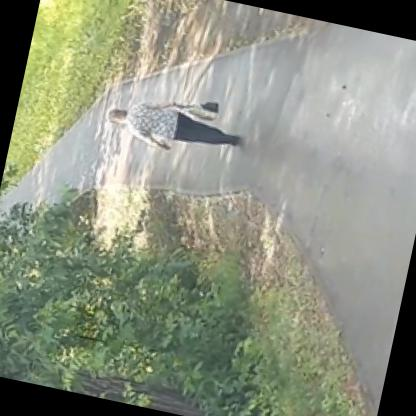Human Body: (106, 89, 250, 170)
